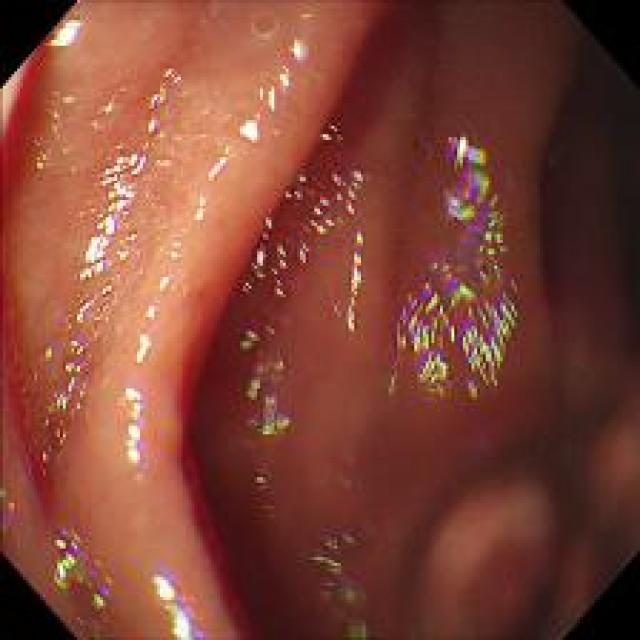blur: (379, 439, 624, 618)
bubbles: (8, 356, 32, 404), (249, 11, 280, 38)
color misalignment: (389, 132, 522, 400), (234, 324, 296, 511), (309, 456, 371, 628), (41, 301, 95, 461), (36, 520, 122, 612), (246, 212, 308, 306), (140, 565, 221, 636), (289, 170, 370, 238), (85, 279, 122, 336), (0, 486, 29, 550), (348, 224, 362, 332), (321, 119, 344, 144)
contrast: (485, 28, 632, 478), (382, 441, 624, 630)
specularity: (39, 281, 101, 470), (72, 141, 152, 278), (246, 209, 312, 309), (281, 168, 375, 236), (25, 85, 80, 180), (136, 52, 182, 148), (345, 224, 366, 338), (90, 72, 128, 132), (258, 61, 292, 118), (41, 14, 86, 56), (124, 374, 145, 462), (204, 141, 240, 180), (129, 328, 158, 376), (136, 300, 168, 336), (281, 32, 309, 69), (238, 110, 265, 148), (319, 116, 350, 148), (149, 271, 181, 296), (188, 190, 206, 229)
